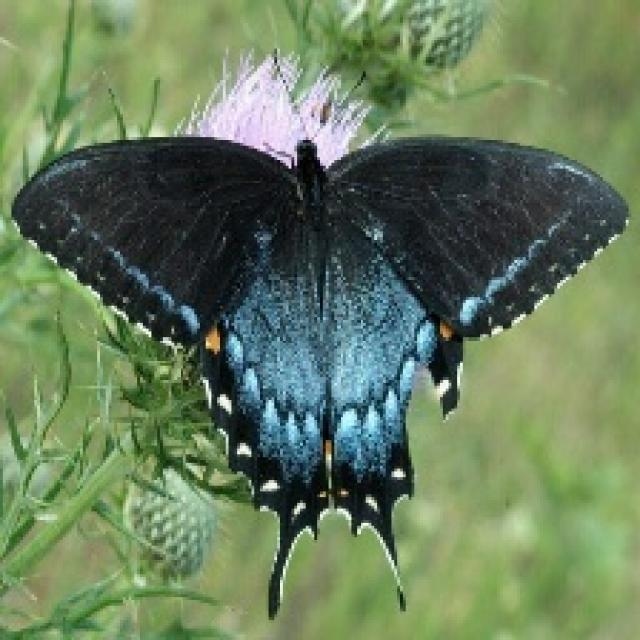butterfly: (9, 46, 628, 620)
